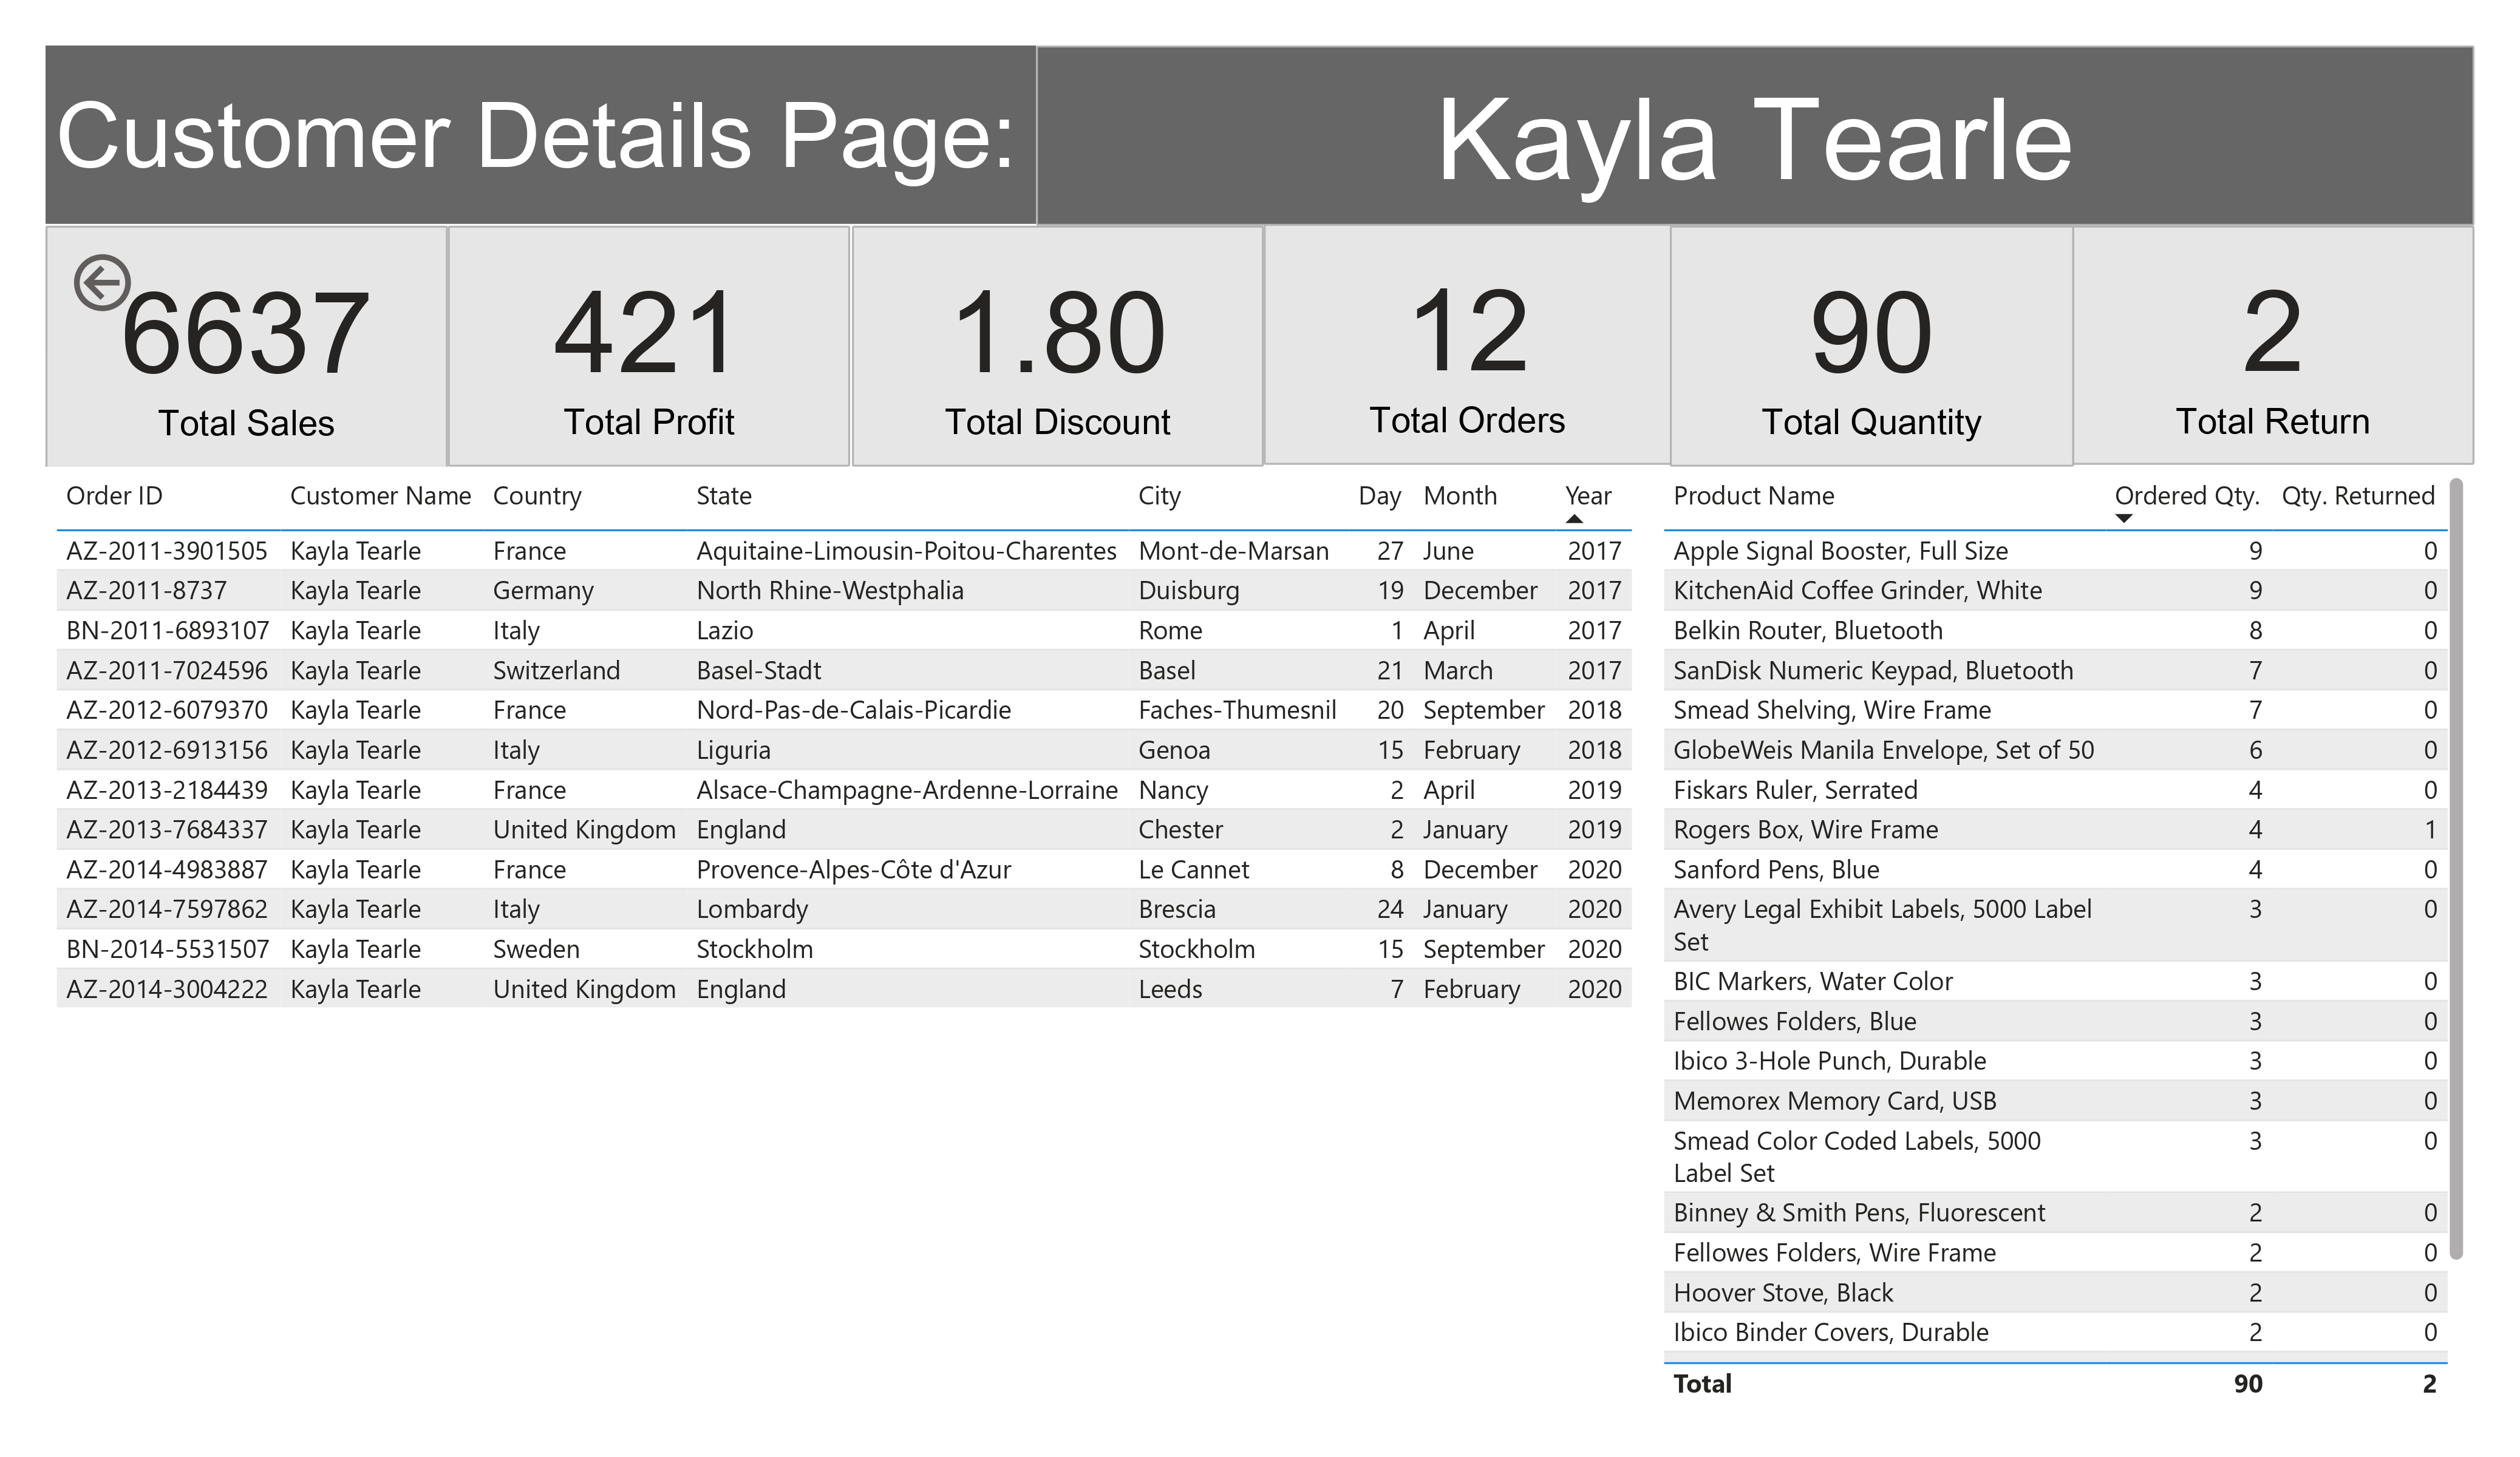

This screenshot's page, from the dashboard's own definition file:
{"tool":"powerbi","page":{"name":"Customer details","canvas":[1280,720],"ordinal":1},"visuals":[{"type":"card","fields":{"Values":["Sum(Order Breakdown.Sales)"]},"box":[0,94.6,211.5,128],"z":0},{"type":"card","fields":{"Values":["Sum(Order Breakdown.Profit)"]},"box":[211.5,94.6,212.6,126.9],"z":1000},{"type":"card","fields":{"Values":["Sum(Order Breakdown.Discount)"]},"box":[425.2,94.6,217.1,126.9],"z":2000},{"type":"card","fields":{"Values":["Sum(Order Breakdown.Quantity)"]},"box":[855,95,212.5,126.2],"z":3000},{"type":"actionButton","box":[10,105,40,40],"z":4000},{"type":"card","fields":{"Values":["Sum(Order Breakdown.Return Status - Copy)"]},"box":[1067.5,95,212.5,126.2],"z":5000},{"type":"card","fields":{"Values":["Count(List of Orders.Order ID)"]},"box":[641.8,94.1,214.7,126.7],"z":6000},{"type":"card","fields":{"Values":["Sum(Order Breakdown.Quantity)"]},"box":[856,94.6,212.6,126.9],"z":7000},{"type":"tableEx","fields":{"Values":["List of Orders.Order ID","List of Orders.Customer Name","List of Orders.Country","List of Orders.State","List of Orders.City","List of Orders.Order Date.Variation.Date Hierarchy.Day","List of Orders.Order Date.Variation.Date Hierarchy.Month","List of Orders.Order Date.Variation.Date Hierarchy.Year"]},"box":[0,221.7,846.9,498.3],"z":8000},{"type":"tableEx","fields":{"Values":["Order Breakdown.Product Name","Sum(Order Breakdown.Quantity)","Sum(Order Breakdown.Return Count)"]},"box":[846.9,222,433.1,498.3],"z":9000},{"type":"textbox","box":[0,0,522.4,94.1],"z":10000},{"type":"card","fields":{"Values":["Min(List of Orders.Customer Name)"]},"box":[522.4,0,757.6,95.3],"z":11000}]}

Visuals, with their boxes on the page's 1280x720 design canvas (x1, y1, x2, y2). These are canvas units, not pixel positions in the 2520x1457 screenshot, which may show the page scaled, cropped or inside an application window:
card - Sum(Order Breakdown.Sales): rect(0, 95, 212, 223)
card - Sum(Order Breakdown.Profit): rect(212, 95, 424, 222)
card - Sum(Order Breakdown.Discount): rect(425, 95, 642, 222)
card - Sum(Order Breakdown.Quantity): rect(855, 95, 1068, 221)
actionButton: rect(10, 105, 50, 145)
card - Sum(Order Breakdown.Return Status - Copy): rect(1068, 95, 1280, 221)
card - Count(List of Orders.Order ID): rect(642, 94, 856, 221)
card - Sum(Order Breakdown.Quantity): rect(856, 95, 1069, 222)
tableEx - List of Orders.Order ID x List of Orders.Customer Name: rect(0, 222, 847, 720)
tableEx - Order Breakdown.Product Name x Sum(Order Breakdown.Quantity): rect(847, 222, 1280, 720)
textbox: rect(0, 0, 522, 94)
card - Min(List of Orders.Customer Name): rect(522, 0, 1280, 95)
